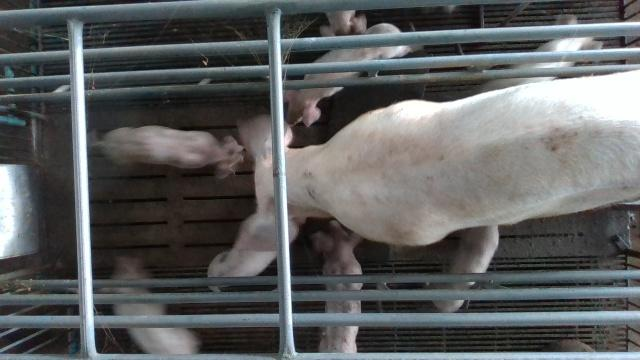piglet: (283, 21, 413, 127), (102, 254, 201, 353), (483, 13, 605, 93), (102, 126, 243, 179), (208, 212, 299, 292), (422, 225, 500, 312), (312, 220, 362, 352)
sow-stand: (233, 68, 640, 252)
